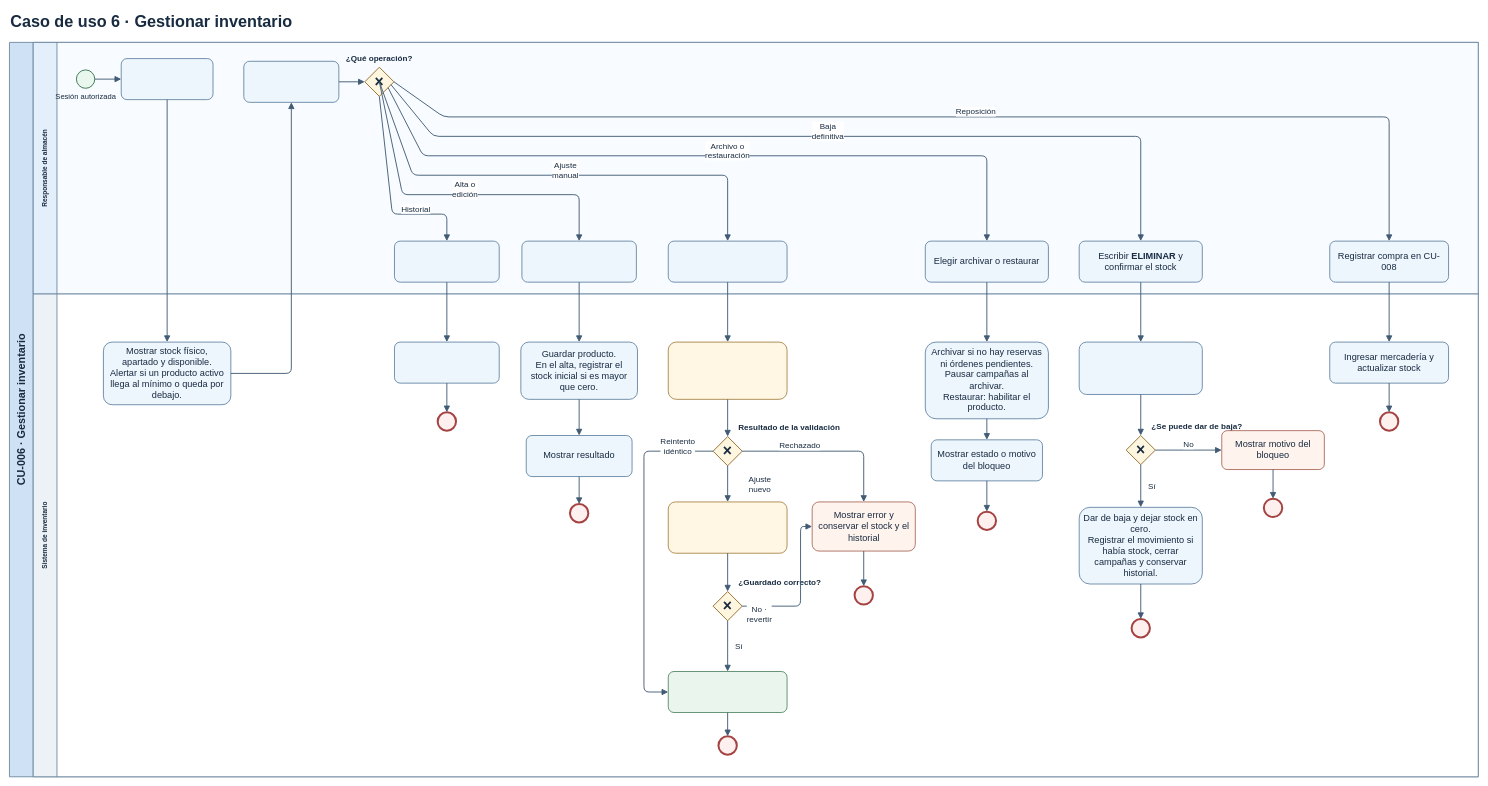
Image size: 1488x786. Some labels were removed from this diagram. The shapes that lost their labels are listed below. From the top down, each one's centre as x and y in pixels, then its label:
At (167,79): "Abrir Inventario".
At (291,81): "Elegir operación".
At (446,261): "Consultar historial".
At (579,261): "Ingresar datos y foto opcional".
At (727,261): "Ingresar variación y motivo".
At (446,362): "Mostrar movimientos y motivos".
At (727,370): "Validar variación, motivo y solicitud. Comprobar estado y stock apartado.".
At (1140,368): "Verificar confirmación, stock, reservas y órdenes pendientes".
At (727,527): "Guardar stock y movimiento con motivo en una transacción".
At (727,692): "Mostrar saldo y movimiento".
